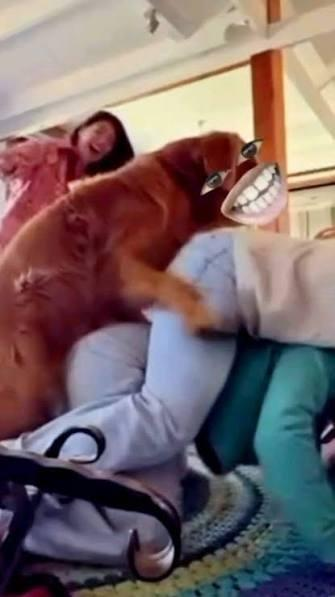adult_dog: (0, 130, 252, 441)
non-dog: (0, 229, 335, 581), (0, 110, 136, 251)
